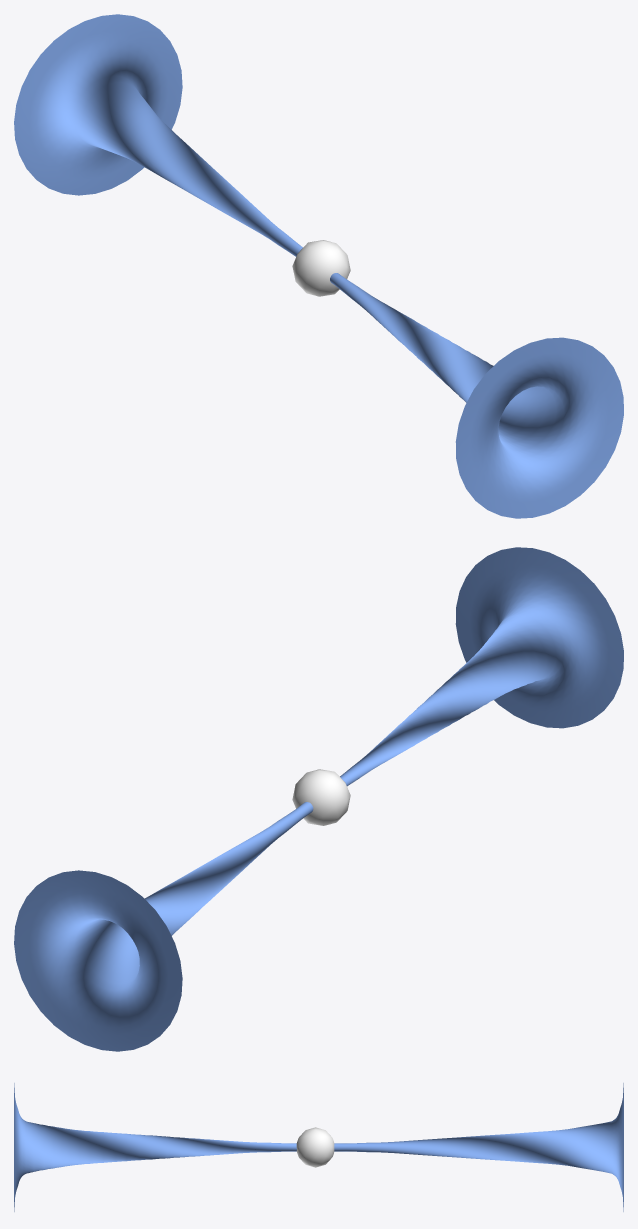
Rendered from WornHole.glb.
The picture shows the model from 3 angles, top to bottom: view 1: azimuth 30°, elevation 25°; view 2: azimuth 150°, elevation 25°; view 3: azimuth 270°, elevation 25°; orthographic projection. The views are drawn at different scales.
Parts seen in each view (by area): view 1: 5th_D; view 2: 5th_D; view 3: 5th_D.
Part boxes in pixels (x1,y1,x2,y2): 5th_D: (14,14,623,518); 5th_D: (14,547,623,1051); 5th_D: (14,1083,623,1211).
Bounding box in the file's own units: 2.47 × 2.47 × 11.21.
